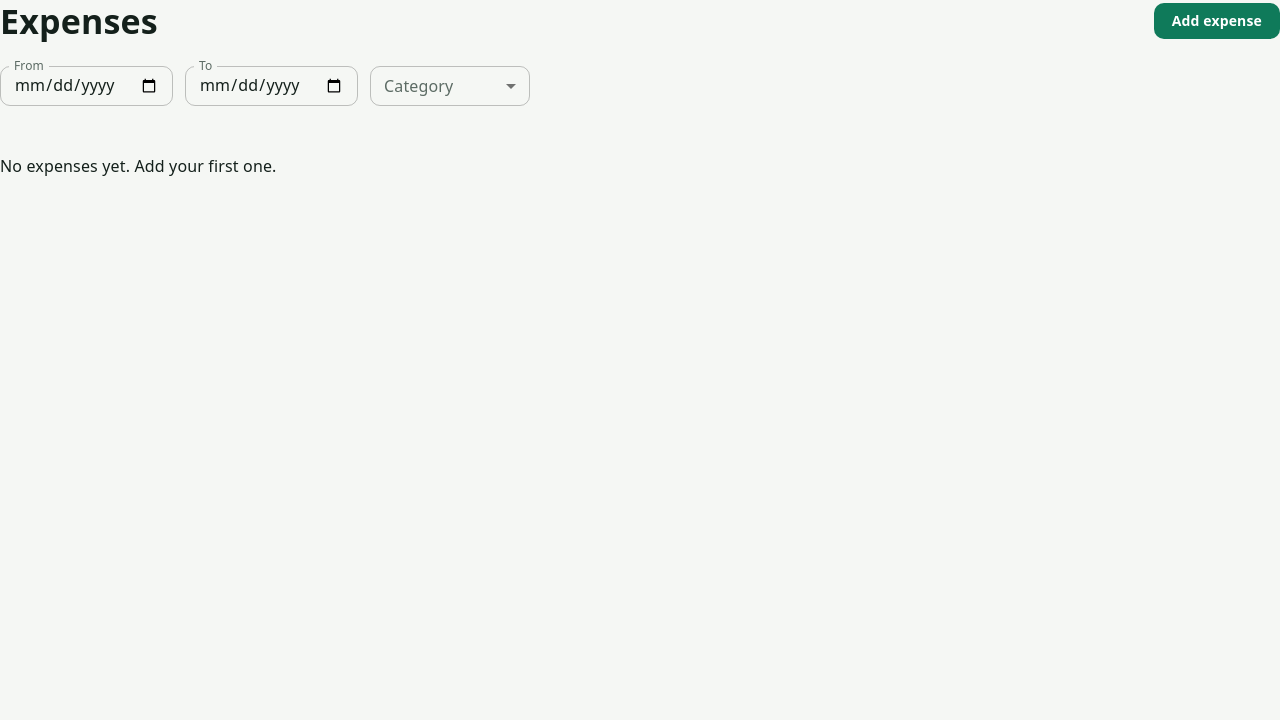
Test case: ExpensesPage › creates an expense and shows it in the list
Click the button "Add expense": (1217, 21) [1154,3,1279,39]
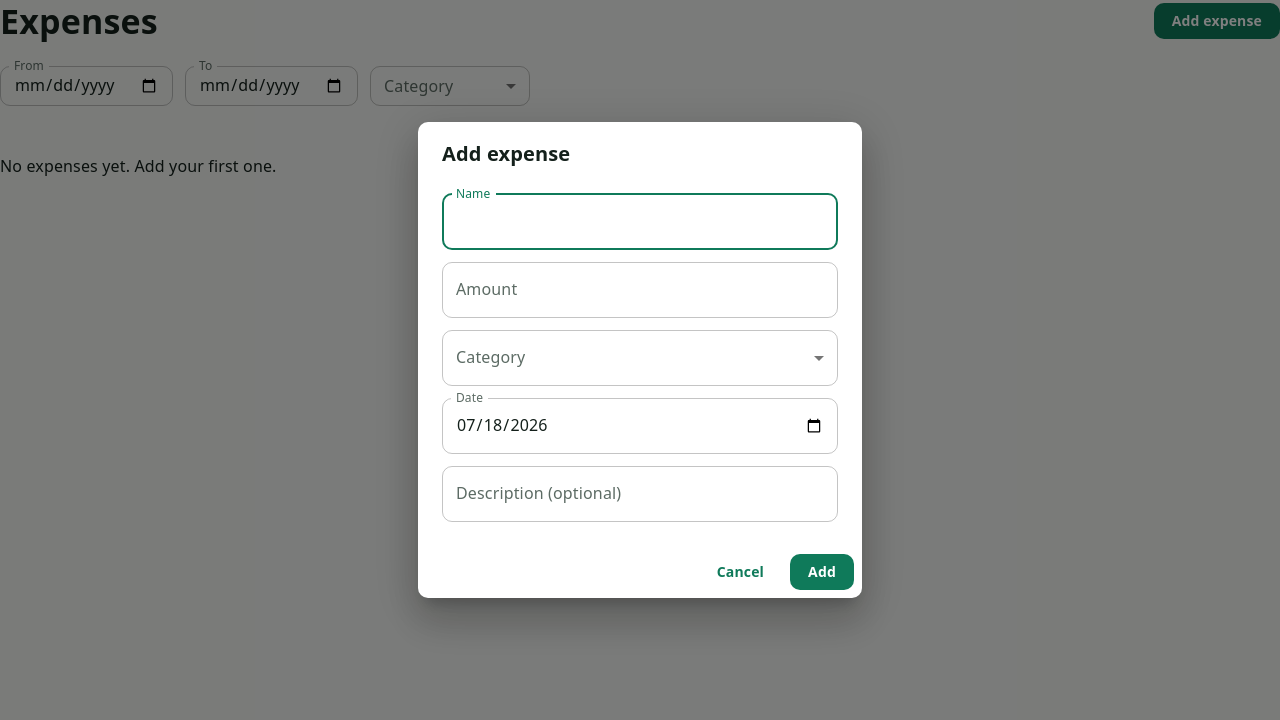
In the field labelled "Name": (640, 222) [442,194,838,250], type "Coffee"
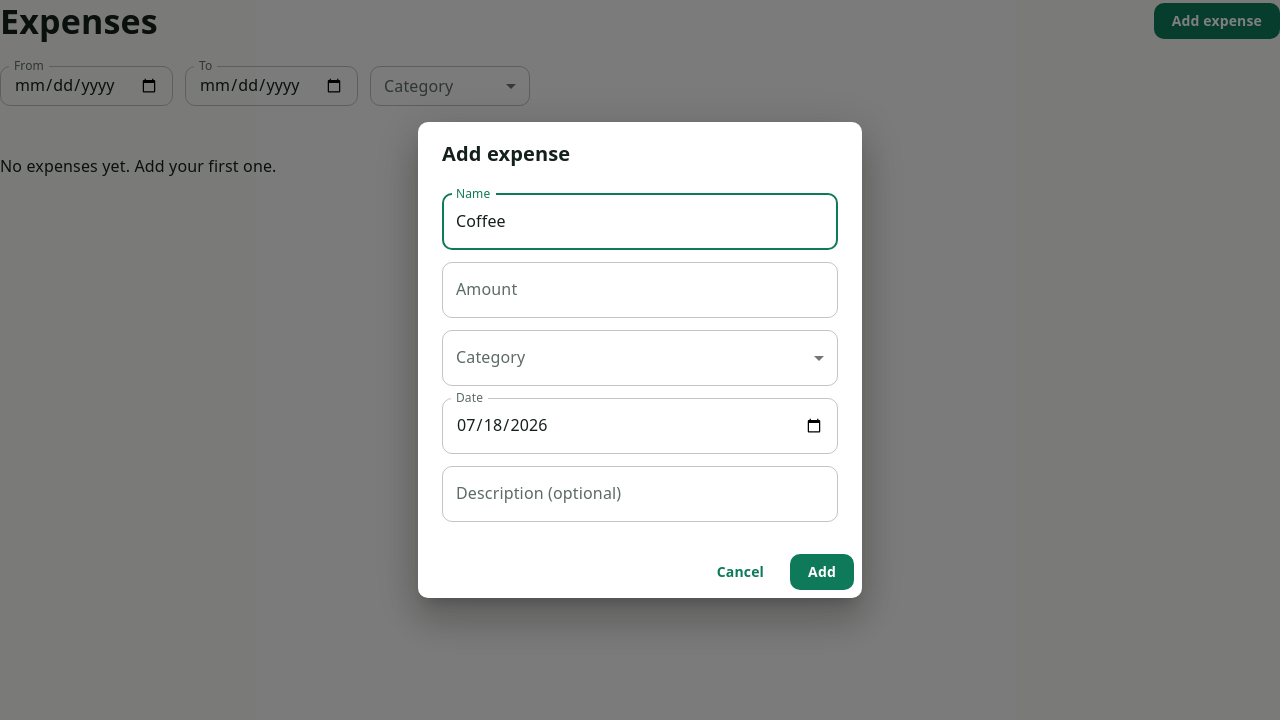
In the number field labelled "Amount": (640, 290) [442,262,838,318], type "4.5"
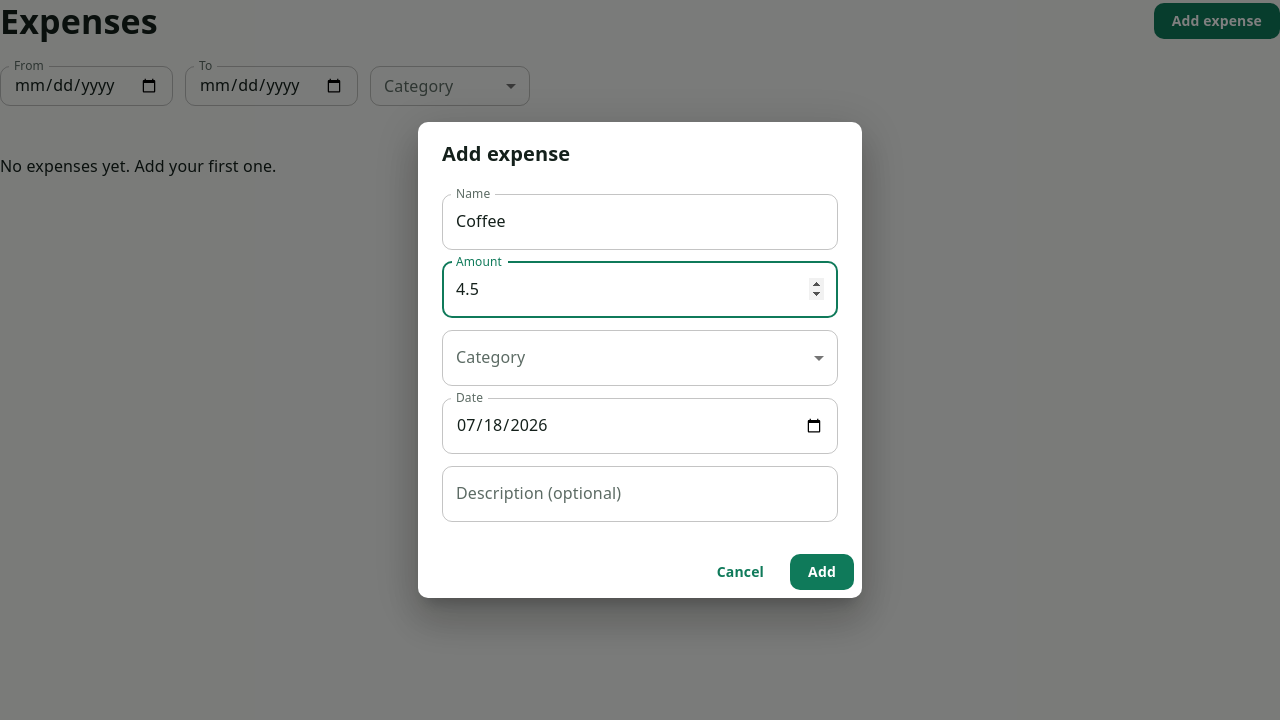
Note: MUI select: open and choose Food.
Click the dropdown named "category": (640, 358) [442,330,838,386]
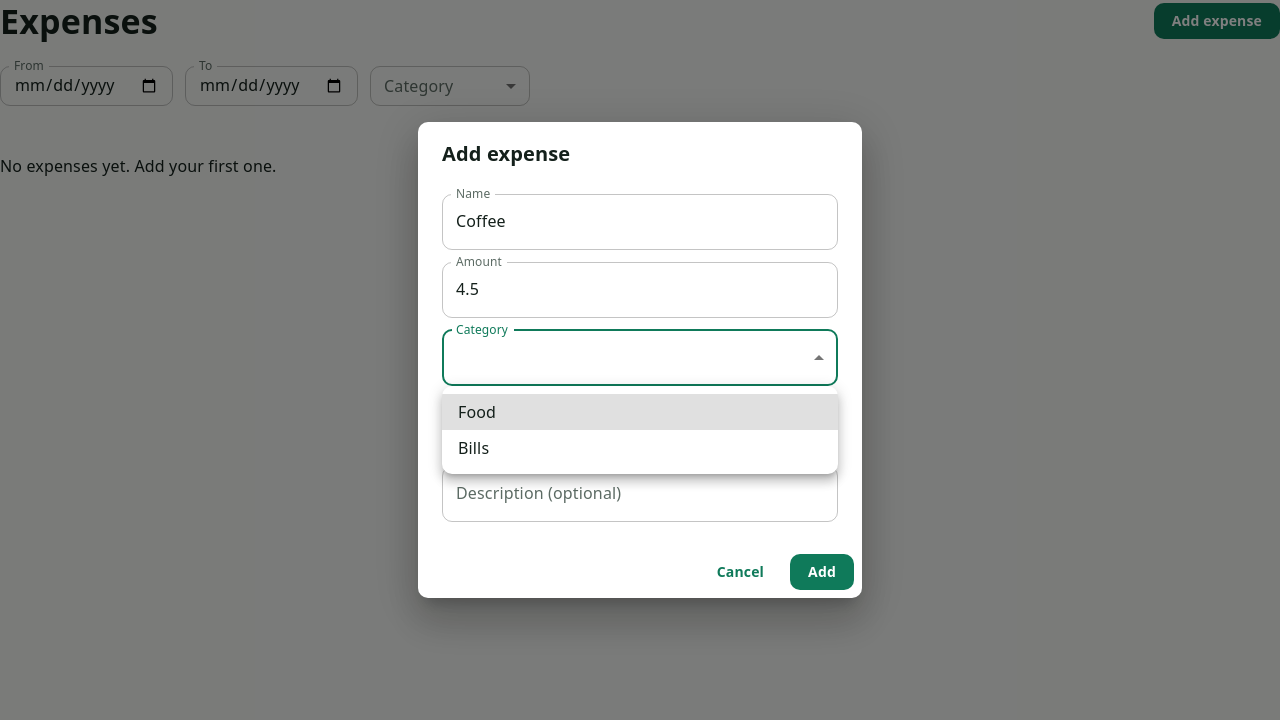
Click the option "Food": (477, 412) [442,394,838,430]
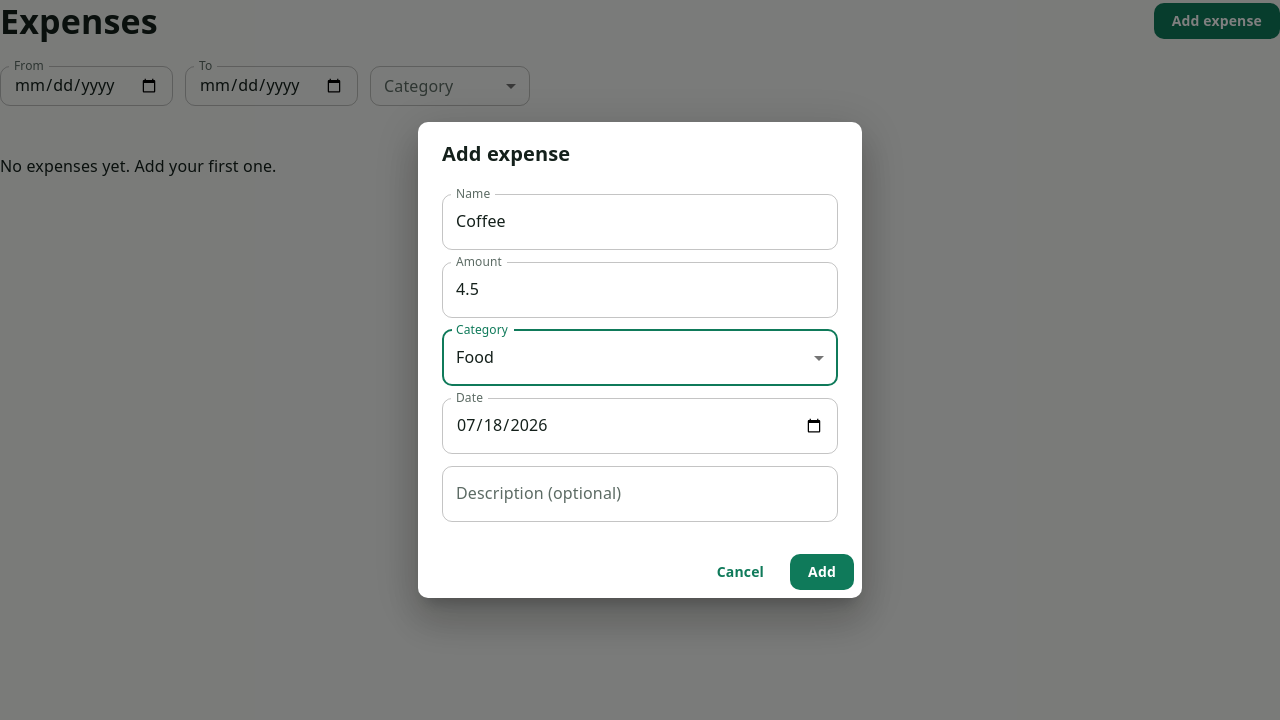
Click the button "Add": (822, 572) [790,554,854,590]
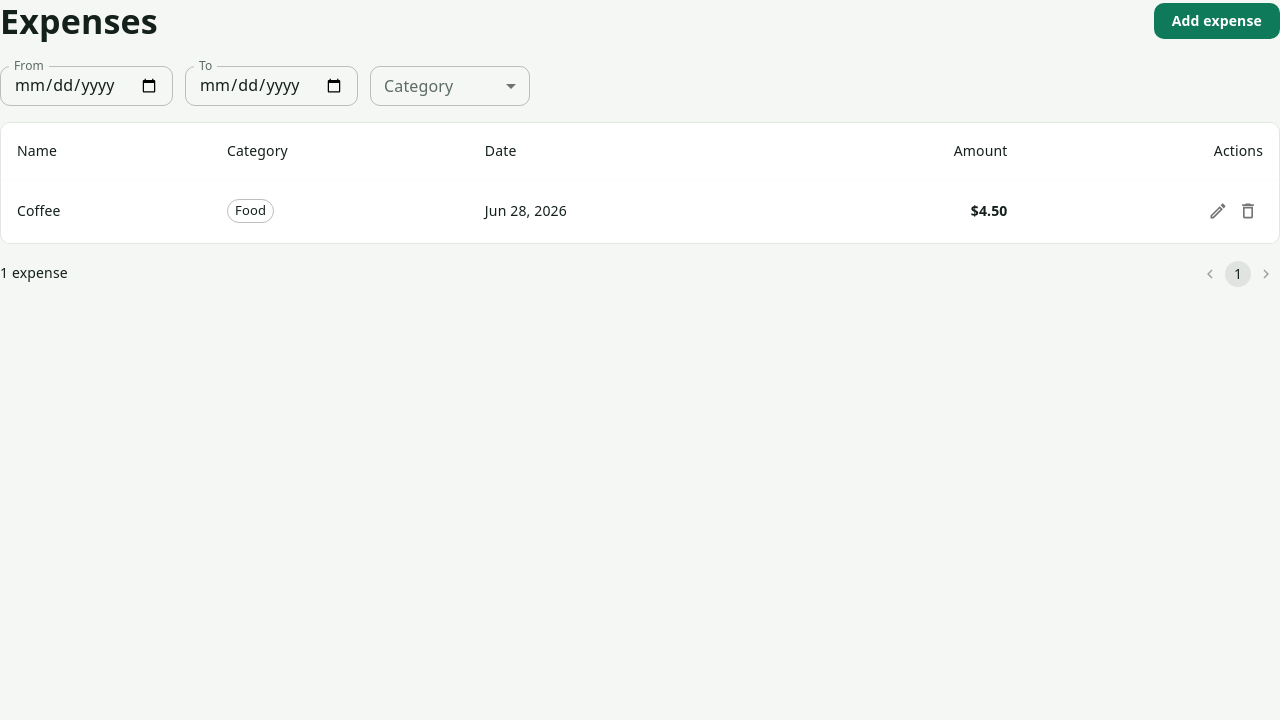
Check: the text "Coffee" is shown, box [1,180,211,242]
